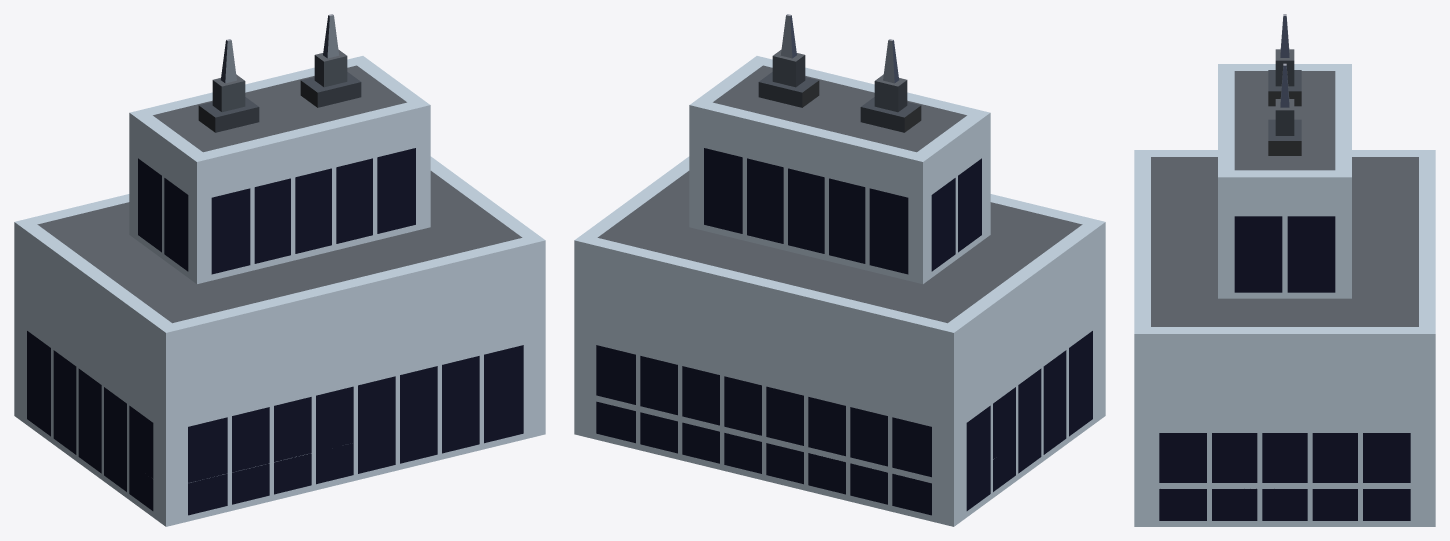
The model's file is squareSkysc.fbx.
3 views of the same model, side by side, from view 1: azimuth 30°, elevation 25°; view 2: azimuth 150°, elevation 25°; view 3: azimuth 270°, elevation 25° (orthographic).
Visible parts, largest first — view 1: TopWall.001, TopTop.002, walls, TopWall, TopCeiling, walls.001, TopTop.003, TopTopCeling, TopTop, TopWall.002, TopTop.004, TopWall.003 (+1 smaller); view 2: TopWall.003, TopTop.004, TopWall, TopCeiling, walls.002, walls.001, TopTop.003, TopTopCeling, TopTop, TopWall.002, TopTop.002, TopWall.001 (+1 smaller); view 3: TopWall.002, TopCeiling, TopTop.001, walls.003, TopTopCeling, TopTop, TopWall.001, TopWall.003, TopTop.002, TopTop.004, TopWall, TopTop.003.
Boxes of the visible parts, x1=… form: TopWall.001: x1=166, y1=237, x2=545, y2=488; TopTop.002: x1=197, y1=102, x2=430, y2=283; walls: x1=166, y1=358, x2=545, y2=526; TopWall: x1=14, y1=222, x2=171, y2=488; TopCeiling: x1=37, y1=171, x2=522, y2=323; walls.001: x1=14, y1=341, x2=165, y2=526; TopTop.003: x1=129, y1=112, x2=202, y2=283; TopTopCeling: x1=153, y1=65, x2=406, y2=152; TopTop: x1=198, y1=14, x2=361, y2=132; TopWall.002: x1=430, y1=156, x2=544, y2=240; TopTop.004: x1=130, y1=56, x2=362, y2=115; TopWall.003: x1=15, y1=194, x2=129, y2=224; TopWall.003: x1=574, y1=237, x2=953, y2=488; TopTop.004: x1=689, y1=102, x2=922, y2=283; TopWall: x1=948, y1=222, x2=1105, y2=488; TopCeiling: x1=597, y1=171, x2=1082, y2=323; walls.002: x1=574, y1=396, x2=953, y2=526; walls.001: x1=954, y1=340, x2=1105, y2=526; TopTop.003: x1=917, y1=112, x2=990, y2=283; TopTopCeling: x1=713, y1=65, x2=966, y2=152; TopTop: x1=758, y1=14, x2=921, y2=132; TopWall.002: x1=575, y1=156, x2=689, y2=240; TopTop.002: x1=757, y1=56, x2=989, y2=115; TopWall.001: x1=990, y1=194, x2=1104, y2=224; TopWall.002: x1=1134, y1=327, x2=1435, y2=488; TopCeiling: x1=1151, y1=157, x2=1418, y2=326; TopTop.001: x1=1218, y1=170, x2=1351, y2=298; walls.003: x1=1134, y1=451, x2=1435, y2=526; TopTopCeling: x1=1234, y1=71, x2=1335, y2=170; TopTop: x1=1268, y1=14, x2=1301, y2=155; TopWall.001: x1=1134, y1=150, x2=1150, y2=333; TopWall.003: x1=1419, y1=150, x2=1435, y2=333; TopTop.002: x1=1218, y1=64, x2=1234, y2=176; TopTop.004: x1=1335, y1=64, x2=1351, y2=176; TopWall: x1=1134, y1=150, x2=1435, y2=156; TopTop.003: x1=1218, y1=64, x2=1351, y2=70.
Bounding box in the file's own units: 2600 × 2602 × 1800.
